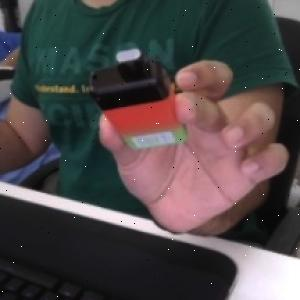Swift-E-Ciggirate: (88, 47, 191, 156)
